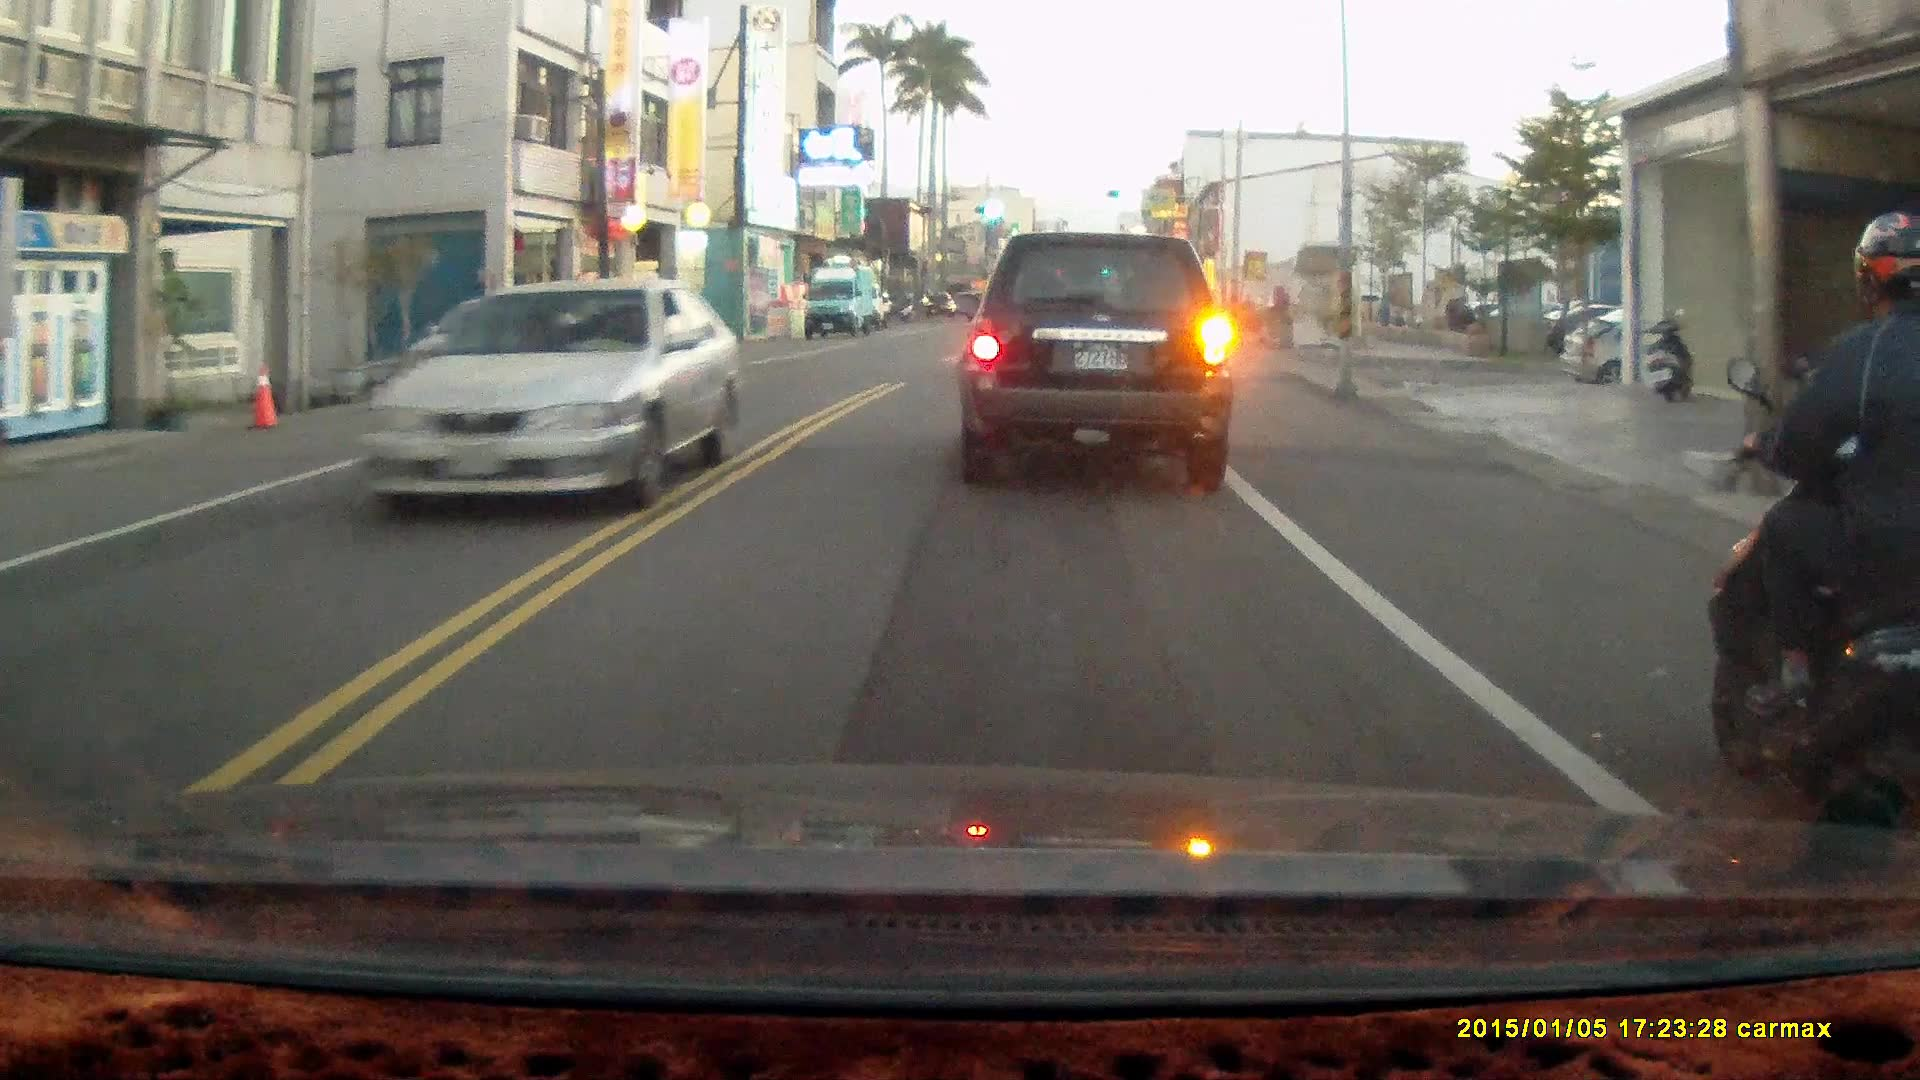rider: (1699, 212, 1919, 877)
vehicle: (360, 281, 741, 515), (960, 233, 1240, 498), (1557, 319, 1765, 393), (805, 267, 880, 343)
